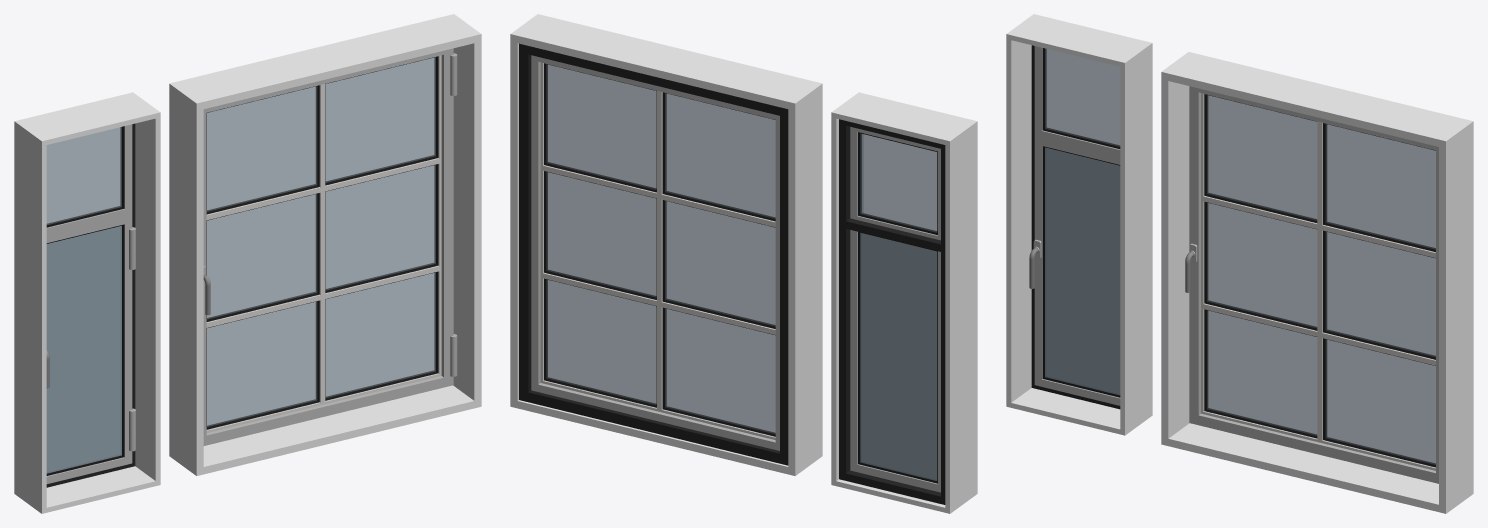
Rendered from window3.fbx.
3 renders of one model, left to right at view 1: azimuth 30°, elevation 25°; view 2: azimuth 150°, elevation 25°; view 3: azimuth 330°, elevation 25°, orthographic.
Visible parts, largest first — view 1: A38_Window_120x150_062, A38_Window_WC_007; view 2: A38_Window_120x150_062, A38_Window_WC_007; view 3: A38_Window_120x150_062, A38_Window_WC_007.
Part boxes in pixels (x1,y1,x2,y2): A38_Window_120x150_062: [169, 14, 481, 475]; A38_Window_WC_007: [14, 92, 160, 513]; A38_Window_120x150_062: [510, 14, 822, 475]; A38_Window_WC_007: [831, 92, 977, 513]; A38_Window_120x150_062: [1161, 52, 1473, 513]; A38_Window_WC_007: [1006, 14, 1152, 435].
Size of the model in its own units: 185 by 150 by 20.
